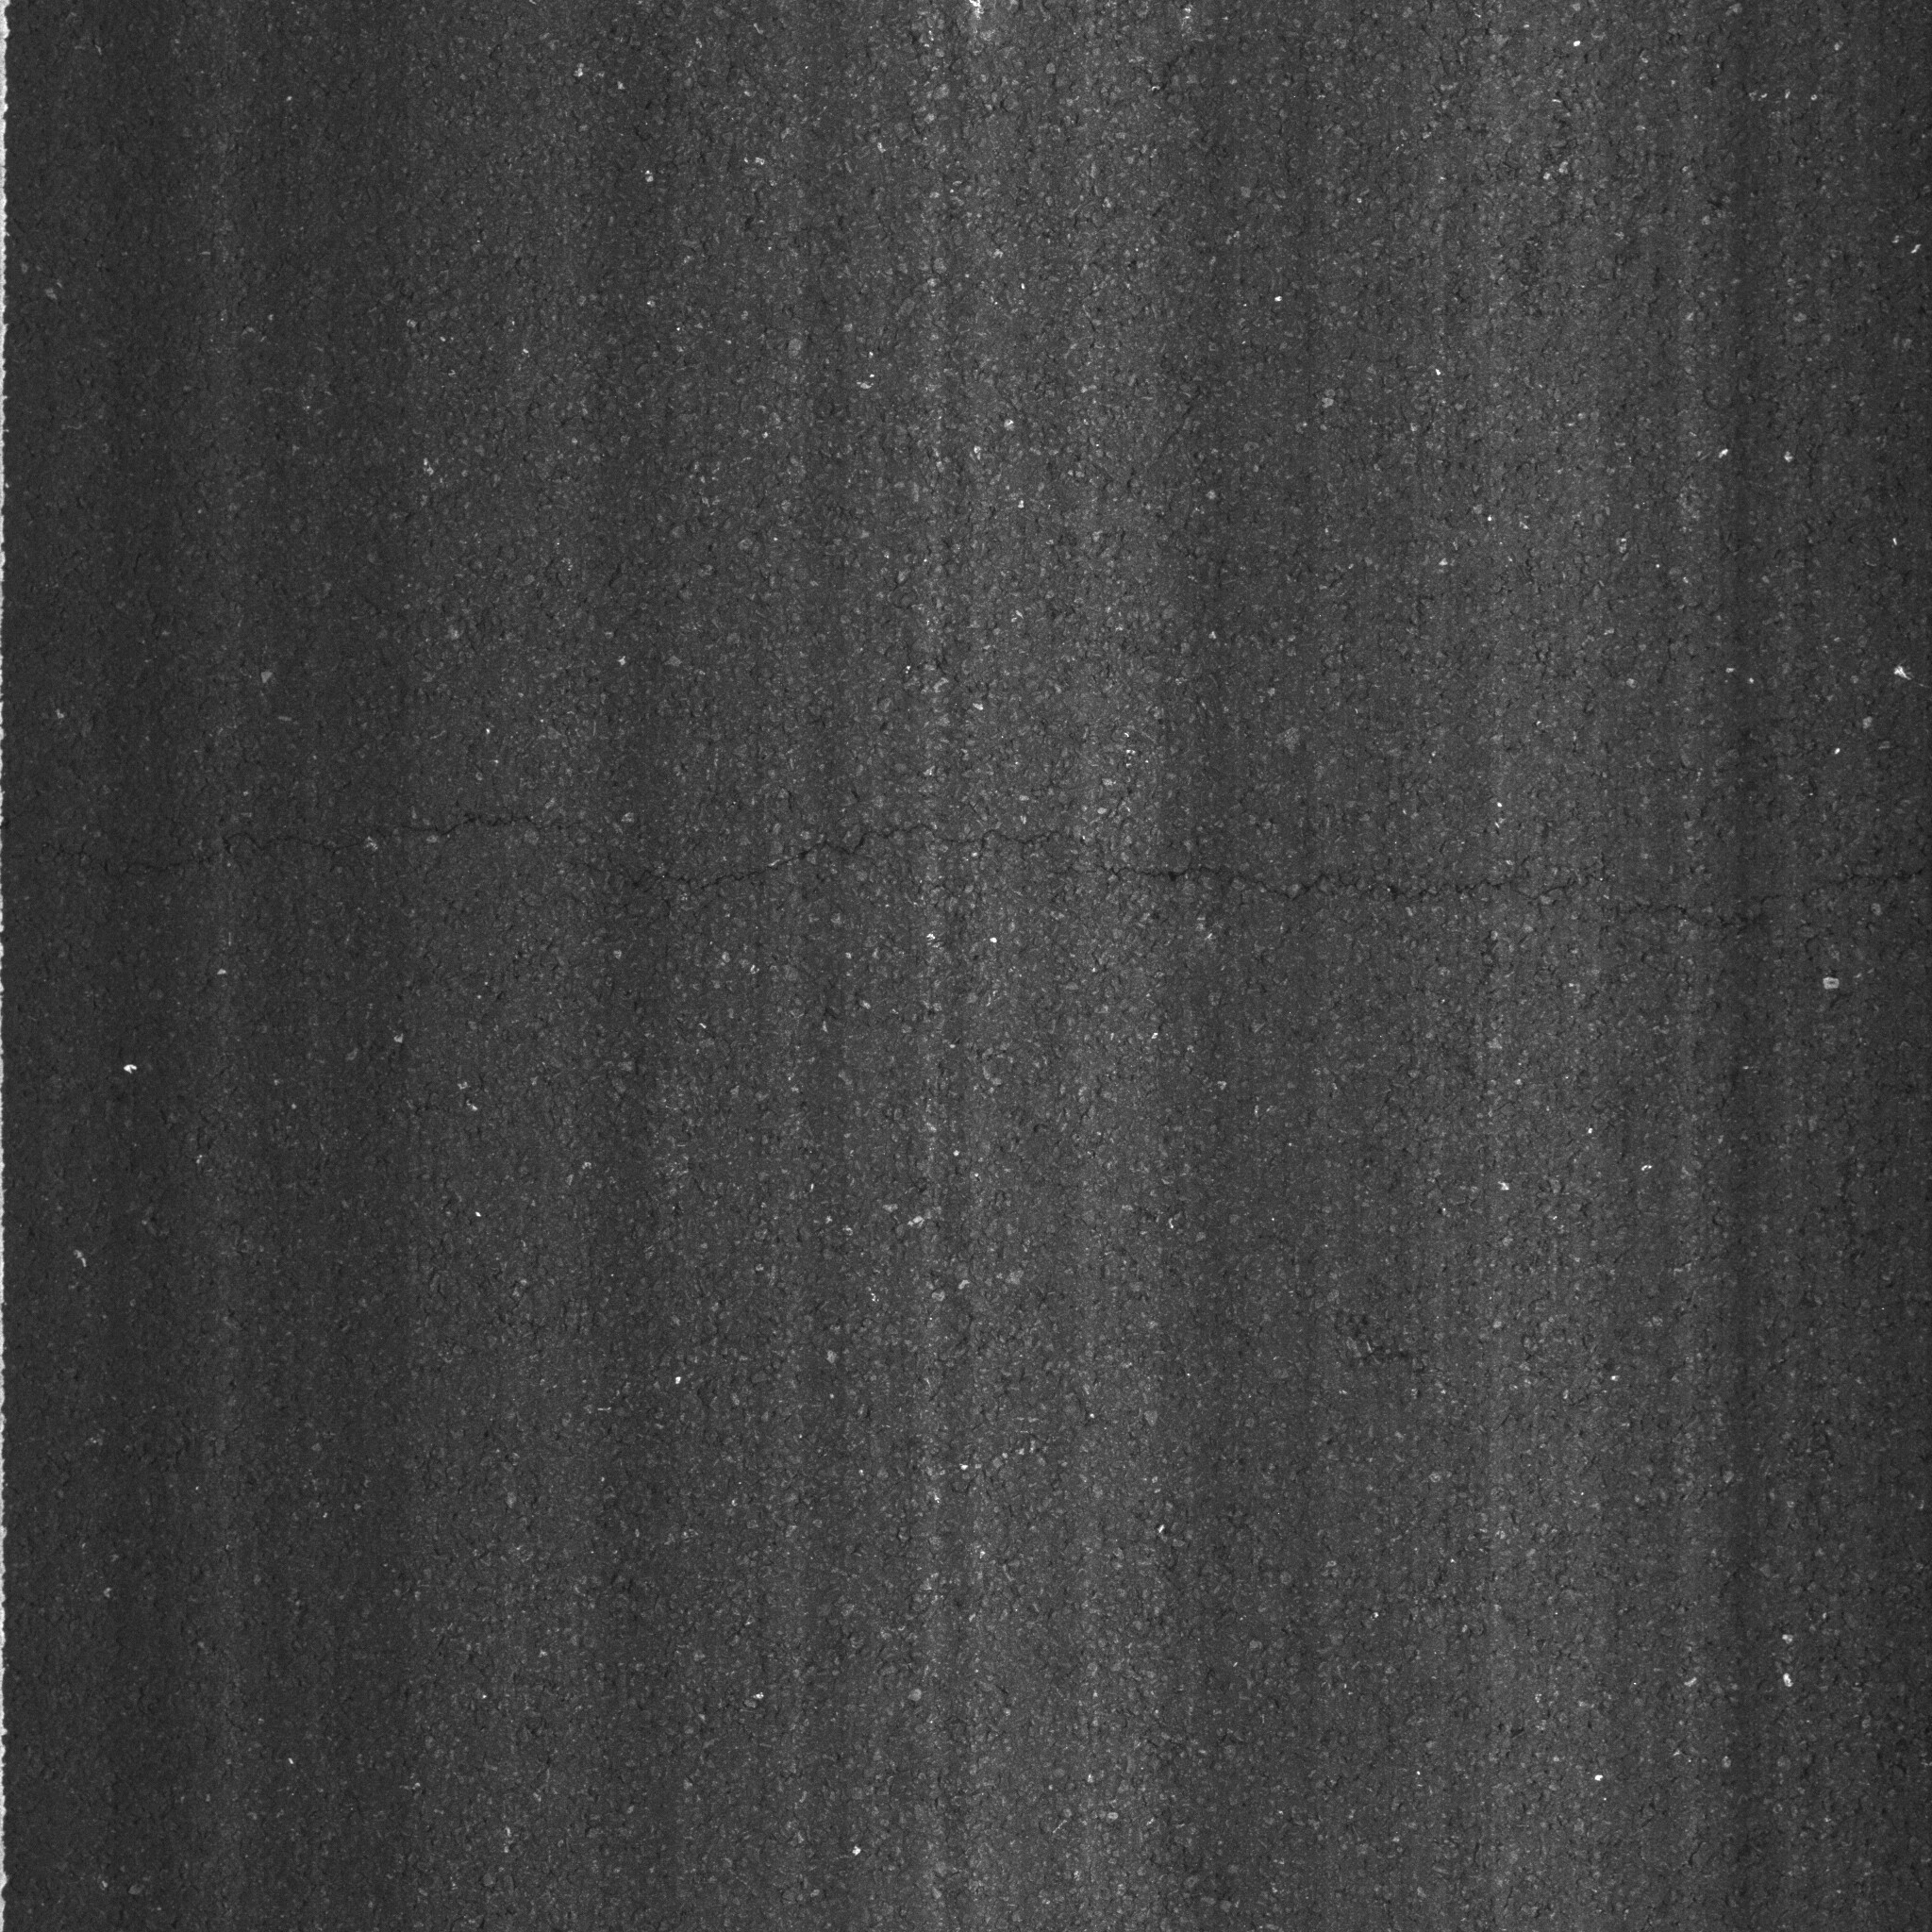transverse: (34, 729, 1863, 996)
